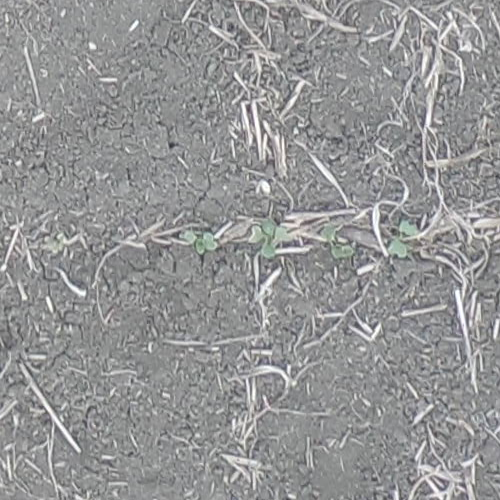plant: (254, 217, 282, 258), (323, 226, 356, 256), (390, 219, 414, 257), (186, 228, 219, 255)
